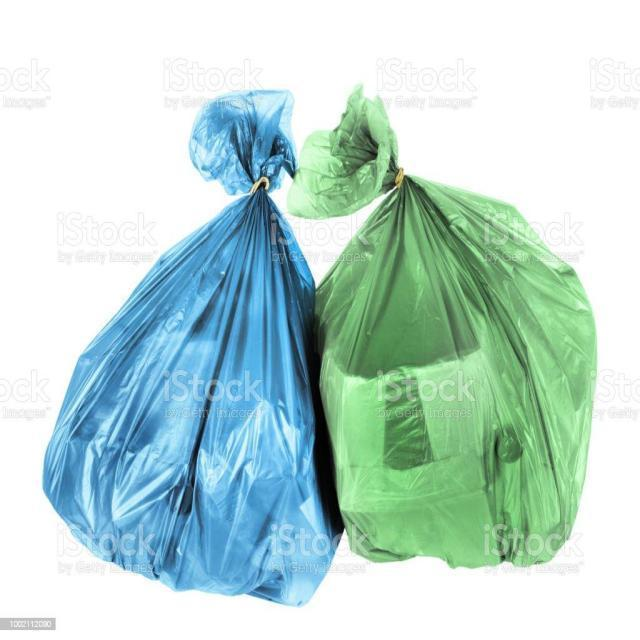Garbage_Bag: (320, 101, 598, 568)
